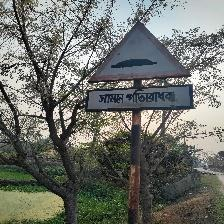Speed-breaker: (86, 19, 194, 113)
